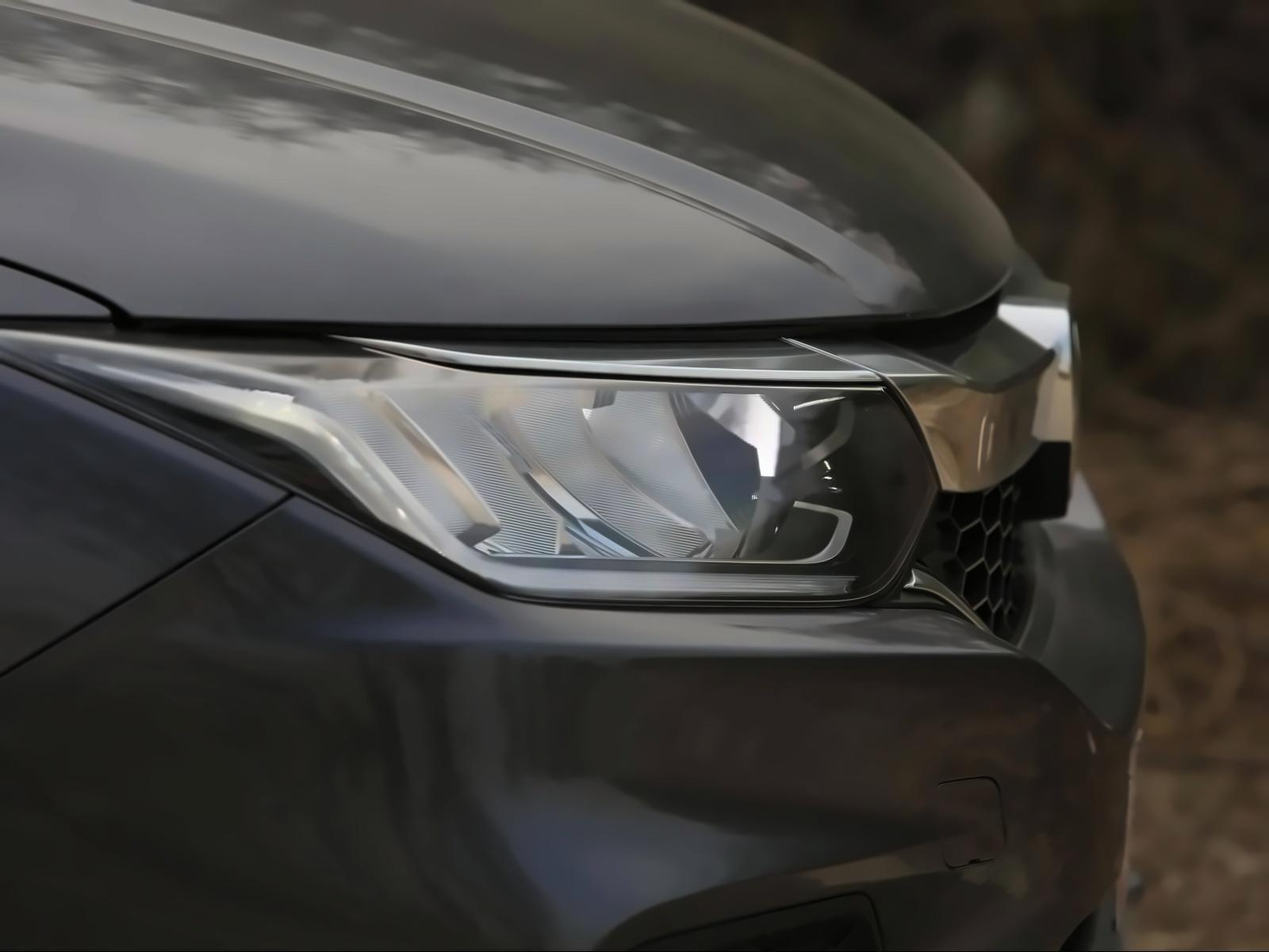Car hood: (0, 0, 1037, 334)
Front bumper: (0, 484, 1161, 952)
Headlight - -R-: (0, 301, 960, 640)
